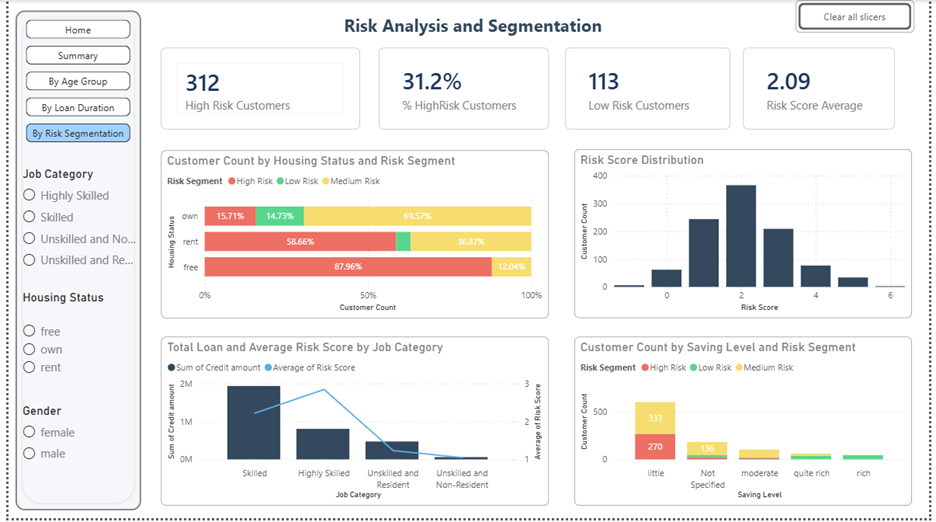

What the dashboard file says about the page in this screenshot:
{"tool":"powerbi","page":{"name":"By Risk Segmentation","canvas":[1280,720],"ordinal":4},"visuals":[{"type":"shape","box":[9.7,14.6,174.9,694.6],"z":0,"group":"g1"},{"type":"pageNavigator","box":[24.3,27.6,145.7,173.3],"z":1000,"group":"g1"},{"type":"listSlicer","fields":{"Values":["german_credit_data.Housing Status"]},"box":[14.3,403.5,166.6,148.3],"z":2000,"group":"g1"},{"type":"listSlicer","fields":{"Values":["german_credit_data.Gender"]},"box":[14.3,560,168.6,134.1],"z":3000,"group":"g1"},{"type":"textbox","box":[283.4,13,725.4,64.8],"z":4000},{"type":"listSlicer","fields":{"Values":["german_credit_data.Job Category"]},"box":[14.3,230.8,170.7,186.9],"z":4000,"group":"g1"},{"type":"cardVisual","fields":{"Data":["german_credit_data.Low Risk Customers"]},"box":[774,66.4,229.9,113.3],"z":5000},{"type":"cardVisual","fields":{"Data":["german_credit_data.% HighRisk Customers"]},"box":[514.9,66.4,236.4,113.3],"z":6000},{"type":"cardVisual","fields":{"Data":["german_credit_data.High Risk Customers"]},"box":[212.1,66.4,276.9,113.3],"z":7000},{"type":"cardVisual","fields":{"Data":["Avg(german_credit_data.Risk Score)"]},"box":[1021.7,66.4,210.5,113.3],"z":8000},{"type":"lineClusteredColumnComboChart","title":"Total Loan and Average Risk Score by Job Category","fields":{"Category":["german_credit_data.Job Category"],"Y":["Sum(german_credit_data.Credit amount)"],"Y2":["Avg(german_credit_data.Risk Score)"]},"box":[212.1,468,539.2,234.8],"z":9000},{"type":"hundredPercentStackedBarChart","fields":{"Category":["german_credit_data.Housing Status"],"Y":["german_credit_data.Customer Count"],"Series":["german_credit_data.Risk Segment"]},"box":[212.1,208.9,539.2,233.2],"z":10000},{"type":"columnChart","fields":{"Category":["german_credit_data.Saving Level"],"Y":["german_credit_data.Customer Count"],"Series":["german_credit_data.Risk Segment"]},"box":[786.9,468,469.6,234.8],"z":11000},{"type":"columnChart","title":"Risk Score Distribution","fields":{"Y":["german_credit_data.Customer Count"],"Category":["german_credit_data.Risk Score"]},"box":[786.9,207.3,469.6,234.8],"z":12000},{"type":"group","id":"g1","title":"Group 1","box":[9.7,14.6,175.3,694.6],"z":12001},{"type":"actionButton","box":[1094.6,0,165.2,45.3],"z":12002}]}

Visuals, with their boxes in screenshot pixels (x1, y1, x2, y2), scaled from the page's 1280x720 canvas onto the 936x522 screenshot:
shape: 7/11/135/514
pageNavigator: 18/20/124/146
listSlicer - german_credit_data.Housing Status: 10/293/132/400
listSlicer - german_credit_data.Gender: 10/406/134/503
textbox: 207/9/738/56
listSlicer - german_credit_data.Job Category: 10/167/135/303
cardVisual - german_credit_data.Low Risk Customers: 566/48/734/130
cardVisual - german_credit_data.% HighRisk Customers: 377/48/549/130
cardVisual - german_credit_data.High Risk Customers: 155/48/358/130
cardVisual - Avg(german_credit_data.Risk Score): 747/48/901/130
"Total Loan and Average Risk Score by Job Category" lineClusteredColumnComboChart: 155/339/549/510
hundredPercentStackedBarChart - german_credit_data.Housing Status x german_credit_data.Customer Count: 155/151/549/321
columnChart - german_credit_data.Saving Level x german_credit_data.Customer Count: 575/339/919/510
"Risk Score Distribution" columnChart: 575/150/919/321
"Group 1" group: 7/11/135/514
actionButton: 800/0/921/33
